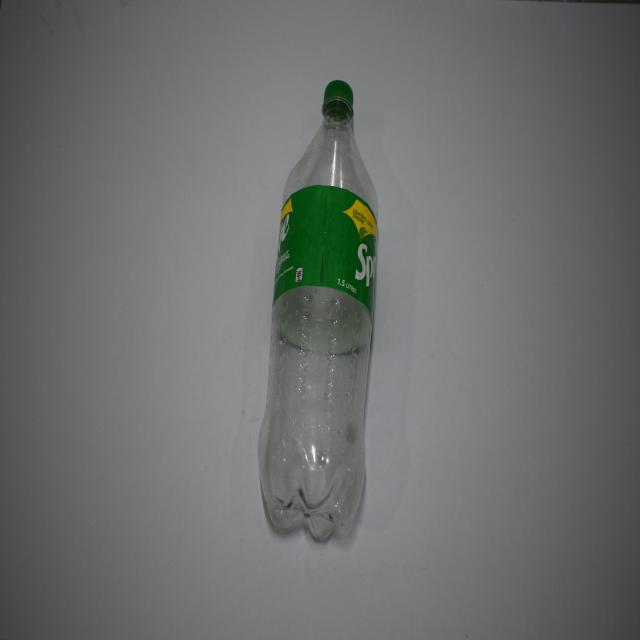bottle: (256, 79, 382, 572)
